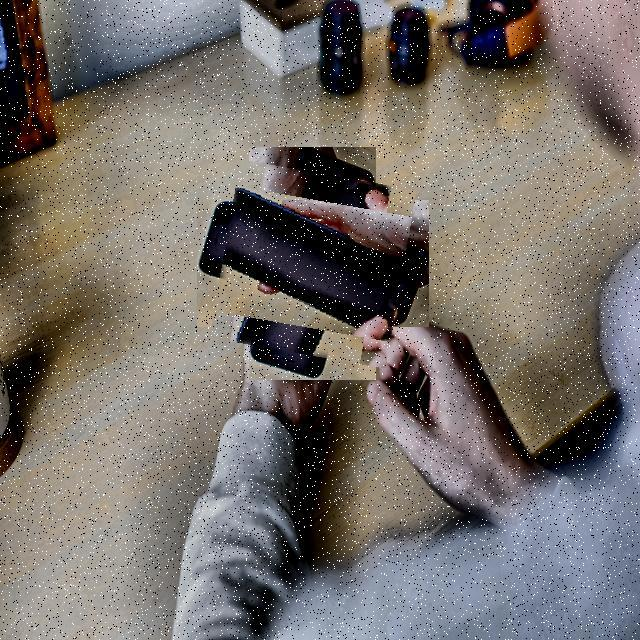Phone: (216, 166, 409, 361)
